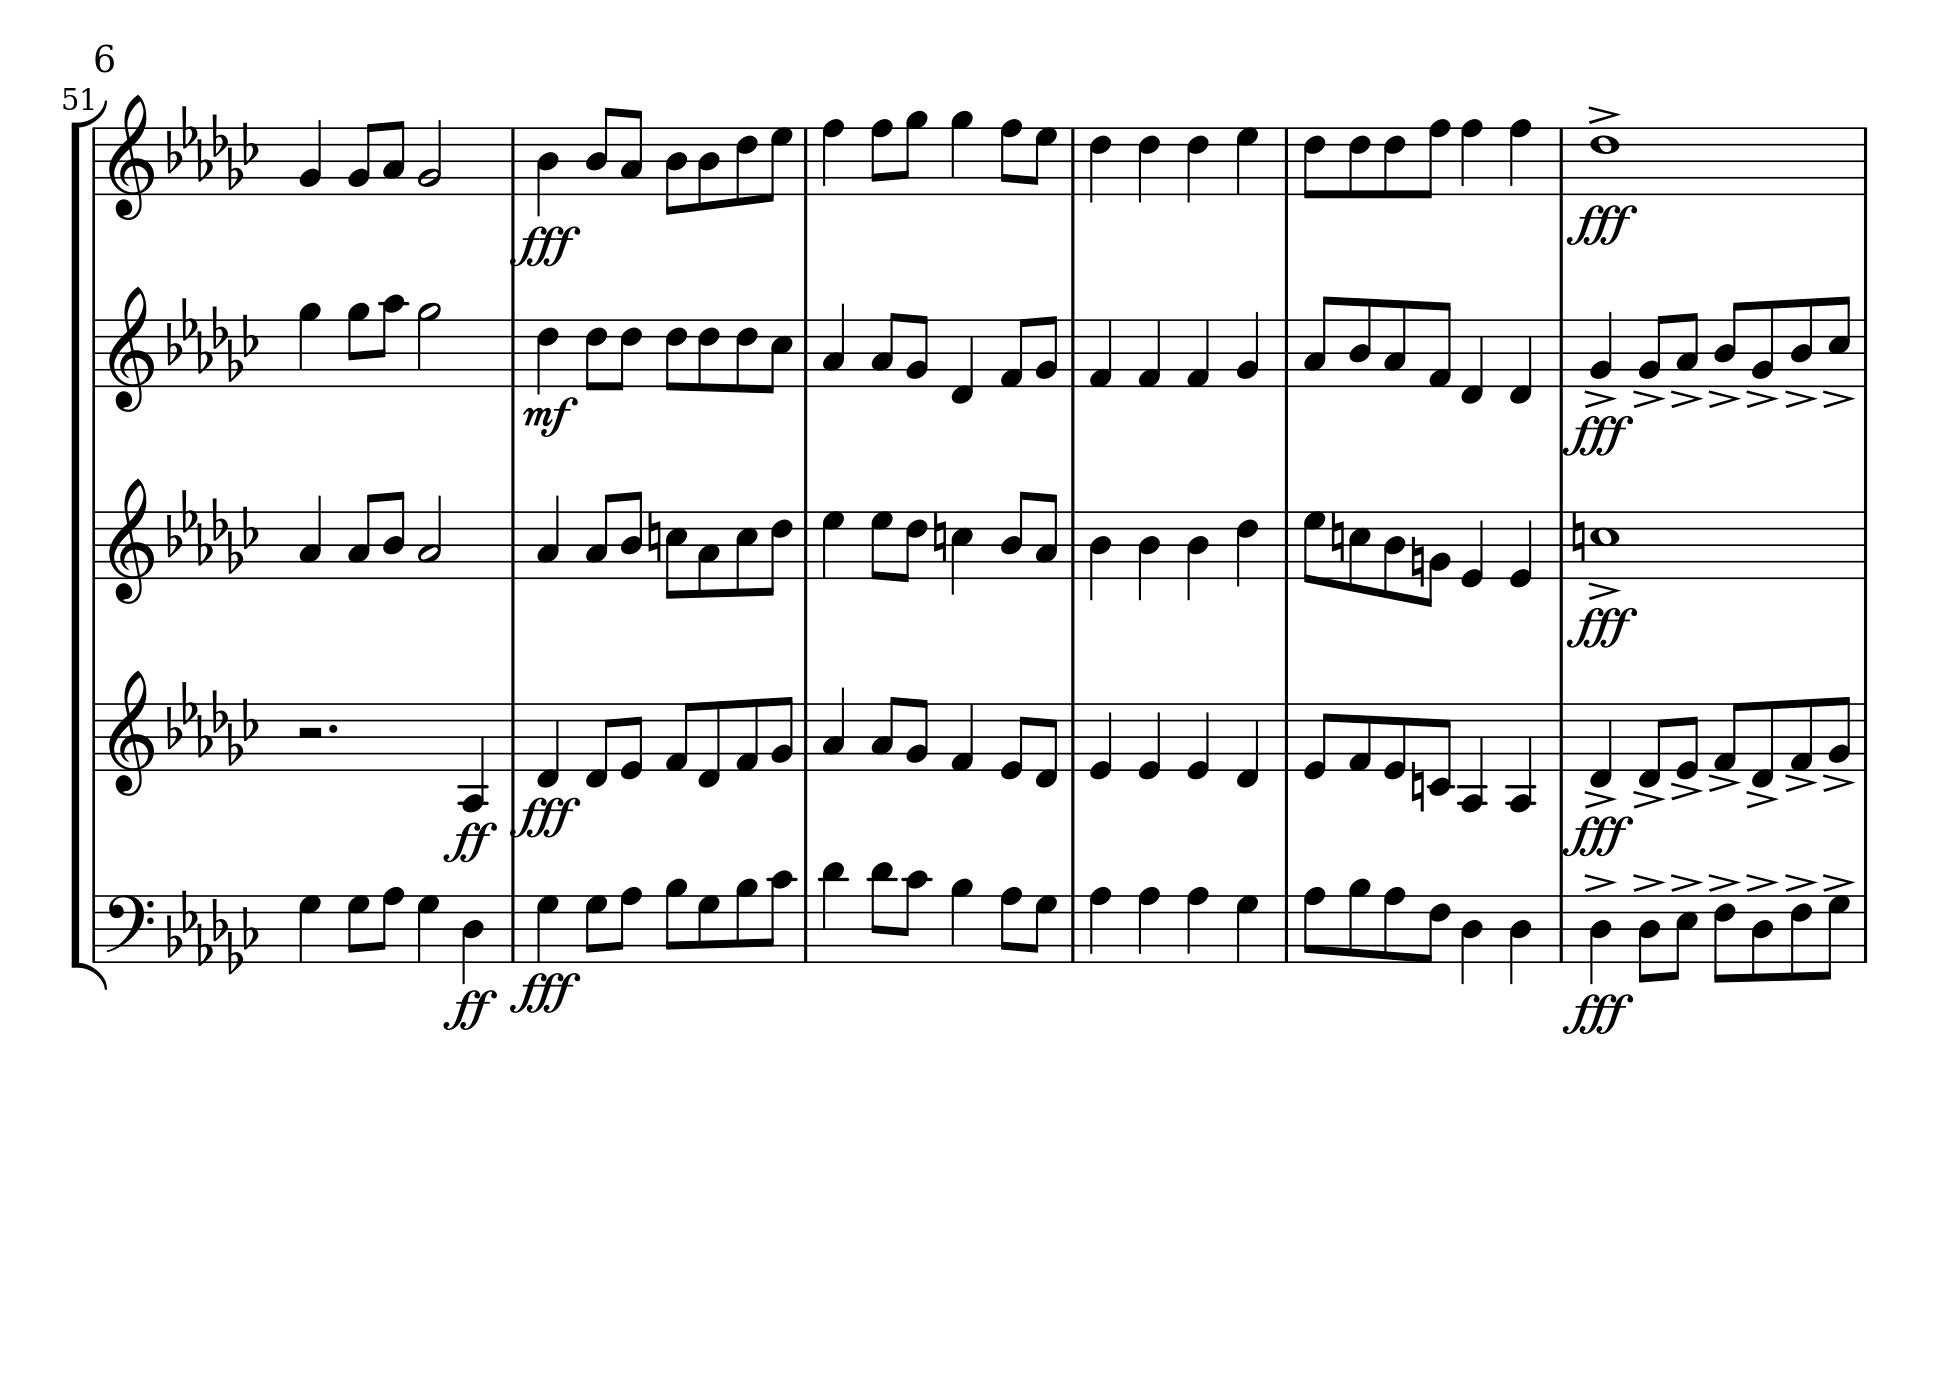1: (82, 79, 99, 112)
1_5: (1588, 508, 1620, 580)
1_6: (1588, 124, 1620, 196)
2_2: (418, 117, 445, 196)
2_3: (415, 490, 445, 580)
2_9: (415, 301, 445, 390)
4_-1: (948, 316, 976, 406), (534, 700, 562, 790), (1459, 316, 1488, 405), (1587, 700, 1615, 789), (1509, 316, 1536, 405), (1234, 700, 1261, 789)
4_-4: (457, 699, 490, 811)
4_0: (1089, 700, 1116, 781), (1137, 700, 1164, 781), (1459, 508, 1486, 588), (1509, 508, 1536, 588), (1185, 700, 1212, 780)
4_1: (948, 700, 976, 772), (1087, 316, 1114, 388), (1137, 316, 1164, 388), (1185, 316, 1212, 388)
4_11: (817, 861, 847, 964)
4_2: (1587, 307, 1615, 388), (297, 117, 324, 196), (1234, 310, 1261, 388)
4_3: (820, 301, 847, 388), (297, 492, 324, 579), (535, 493, 562, 580), (820, 685, 847, 772)
4_4: (1587, 894, 1614, 985), (1087, 508, 1113, 603), (1137, 508, 1162, 603), (1185, 508, 1210, 603), (1459, 892, 1485, 987), (534, 124, 559, 217), (1507, 892, 1533, 985), (460, 892, 486, 984)
4_6: (534, 318, 562, 397), (1233, 508, 1260, 588), (1087, 124, 1113, 205), (1185, 126, 1210, 205), (1137, 124, 1161, 205)
4_7: (532, 892, 562, 964), (1233, 124, 1260, 196), (295, 892, 322, 964), (415, 892, 442, 964), (819, 508, 844, 580), (1234, 892, 1260, 964)
4_8: (1087, 883, 1113, 964), (1185, 885, 1210, 964), (1459, 118, 1485, 196), (1137, 885, 1162, 963), (820, 117, 844, 196), (1509, 117, 1533, 196)
4_9: (295, 301, 322, 388), (949, 876, 975, 964), (949, 109, 973, 196)
5: (60, 82, 82, 112)
6: (94, 40, 115, 72)
8_-1: (1636, 700, 1669, 787), (583, 700, 615, 787), (1749, 697, 1776, 789), (696, 697, 721, 790), (1035, 700, 1059, 789)
8_-2: (1426, 700, 1455, 795)
8_-4: (1506, 699, 1539, 813), (1458, 699, 1488, 811)
8_0: (1302, 700, 1335, 780), (999, 700, 1029, 781), (619, 700, 645, 781), (1381, 700, 1407, 781), (1675, 700, 1701, 780)
8_1: (1426, 298, 1453, 388), (661, 700, 694, 772), (1711, 700, 1744, 772), (997, 316, 1029, 388), (733, 696, 760, 772), (1788, 696, 1815, 772), (1347, 700, 1372, 772)
8_10: (373, 292, 406, 387), (763, 868, 795, 964), (898, 868, 930, 964)
8_11: (868, 859, 895, 961)
8_2: (1423, 508, 1452, 609), (1635, 312, 1668, 387), (1749, 298, 1776, 388), (345, 118, 376, 195), (769, 694, 795, 772), (1827, 694, 1852, 771), (904, 313, 928, 388), (1035, 313, 1059, 388), (904, 697, 928, 772)
8_3: (1302, 294, 1336, 388), (345, 490, 378, 580), (583, 492, 615, 580), (1383, 298, 1410, 388), (694, 508, 720, 600), (870, 310, 898, 388), (870, 694, 898, 772), (1035, 490, 1059, 580), (619, 108, 643, 196), (1674, 309, 1699, 387), (382, 118, 406, 196)
8_4: (999, 487, 1032, 579), (1713, 298, 1746, 387), (585, 105, 616, 195), (1347, 295, 1374, 388), (1788, 295, 1815, 388), (1380, 508, 1407, 601), (381, 487, 406, 580), (1749, 892, 1774, 982), (664, 124, 688, 217), (696, 124, 721, 211), (619, 489, 643, 580), (1638, 892, 1662, 984)
8_5: (1668, 892, 1699, 981), (762, 316, 793, 394), (1827, 292, 1852, 387), (663, 508, 688, 600), (732, 508, 757, 598), (948, 508, 973, 597), (1347, 508, 1371, 594)
8_6: (762, 508, 793, 597), (612, 316, 643, 393), (1788, 891, 1813, 982), (1420, 892, 1452, 964), (898, 510, 928, 583), (1713, 892, 1737, 984), (733, 124, 757, 207), (583, 316, 609, 393), (663, 316, 688, 393), (696, 316, 721, 393), (1302, 124, 1327, 199), (1381, 124, 1407, 199), (733, 316, 757, 394), (1347, 124, 1371, 199)
8_7: (1819, 892, 1851, 981), (760, 124, 793, 202), (1029, 892, 1059, 964), (1029, 124, 1059, 195), (1302, 508, 1326, 586), (868, 508, 894, 580), (346, 892, 370, 964), (583, 892, 607, 964), (696, 892, 720, 964)
8_8: (1419, 117, 1452, 199), (375, 883, 406, 964), (612, 883, 643, 964), (1302, 885, 1327, 964), (999, 883, 1023, 964), (1383, 883, 1407, 964), (868, 117, 892, 196), (999, 117, 1023, 196)
8_9: (897, 109, 928, 196), (343, 301, 370, 388), (663, 877, 688, 964), (1347, 877, 1372, 964), (733, 877, 757, 964)
Accent_above: (1704, 870, 1743, 892), (1743, 870, 1780, 892), (1629, 871, 1668, 892), (1666, 871, 1705, 892), (1707, 769, 1740, 793), (1669, 778, 1704, 801), (1581, 870, 1615, 892), (1822, 769, 1854, 793), (1783, 769, 1815, 793), (1629, 787, 1665, 808), (1782, 870, 1818, 891), (1669, 387, 1702, 409), (1707, 387, 1740, 409), (1821, 868, 1854, 891), (1587, 103, 1621, 124), (1582, 786, 1617, 807), (1744, 787, 1779, 808), (1822, 387, 1854, 409), (1632, 388, 1665, 408), (1587, 580, 1620, 600), (1582, 388, 1615, 406), (1746, 388, 1776, 408), (1785, 388, 1813, 408)
Bracke: (67, 97, 108, 991)
Fclef: (103, 892, 154, 964)
G_F: (166, 294, 259, 382), (165, 486, 258, 574), (166, 103, 259, 190), (166, 678, 259, 765), (166, 886, 259, 973)
Gclef: (106, 93, 156, 222), (106, 285, 156, 414), (106, 475, 156, 604), (106, 669, 154, 796)
Natural: (1329, 510, 1347, 564), (1569, 510, 1587, 564), (931, 508, 948, 564), (1408, 535, 1426, 585), (1410, 757, 1425, 813), (646, 510, 661, 562)
Rests2: (294, 721, 325, 744)
Single_barline: (1278, 894, 1296, 961), (1857, 319, 1875, 385), (1857, 703, 1875, 769), (1065, 318, 1081, 387), (798, 700, 814, 769), (1065, 127, 1081, 195), (1278, 318, 1294, 385), (798, 510, 814, 577), (798, 894, 814, 961), (1065, 894, 1081, 961), (1279, 127, 1296, 193), (1552, 319, 1569, 385), (1552, 510, 1569, 576), (1857, 895, 1873, 961), (1857, 127, 1873, 192), (1857, 511, 1873, 576), (799, 126, 814, 195), (1554, 127, 1569, 195), (798, 318, 813, 385), (1279, 510, 1294, 577), (1065, 703, 1080, 771), (505, 127, 520, 193), (505, 319, 520, 385), (505, 511, 520, 577), (1554, 703, 1569, 769), (1278, 703, 1293, 769), (505, 894, 520, 960), (1065, 510, 1080, 574), (87, 895, 102, 960), (1554, 895, 1569, 958), (88, 129, 102, 195), (87, 319, 100, 385), (87, 511, 100, 577), (87, 703, 100, 769)
dot: (327, 721, 339, 733)
ff: (441, 816, 499, 864), (441, 985, 498, 1033)
fff: (508, 220, 585, 271), (1561, 409, 1638, 460), (1560, 811, 1638, 859), (1560, 988, 1635, 1038), (508, 967, 580, 1018), (1566, 601, 1639, 651), (510, 792, 583, 841), (1566, 202, 1641, 247)
mf: (520, 397, 577, 439)
